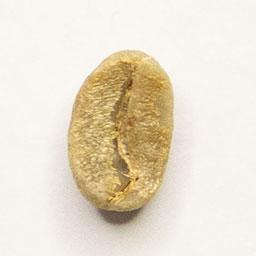longberry: (65, 46, 177, 216)
